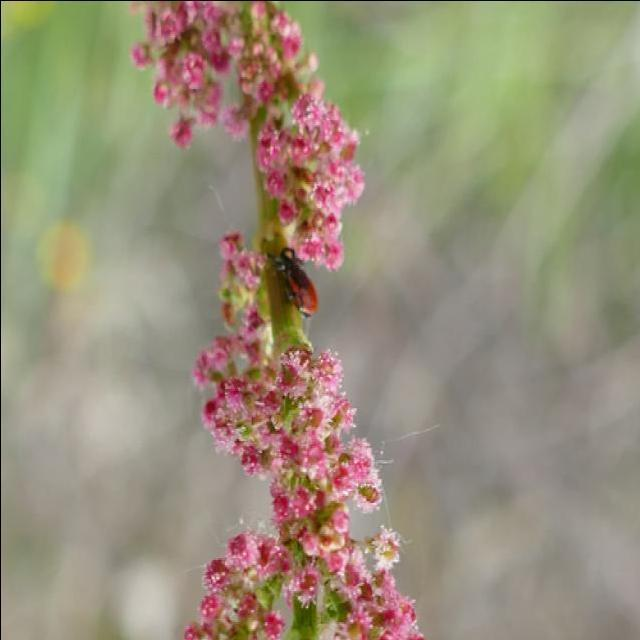Ixodes Ricinus-F: (264, 242, 319, 316)
